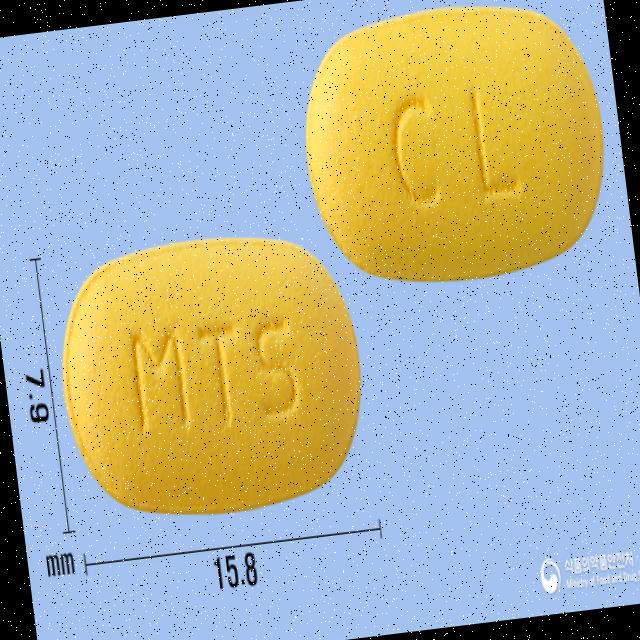Clarimacin - 500mg: (45, 216, 380, 538), (291, 0, 623, 295)
